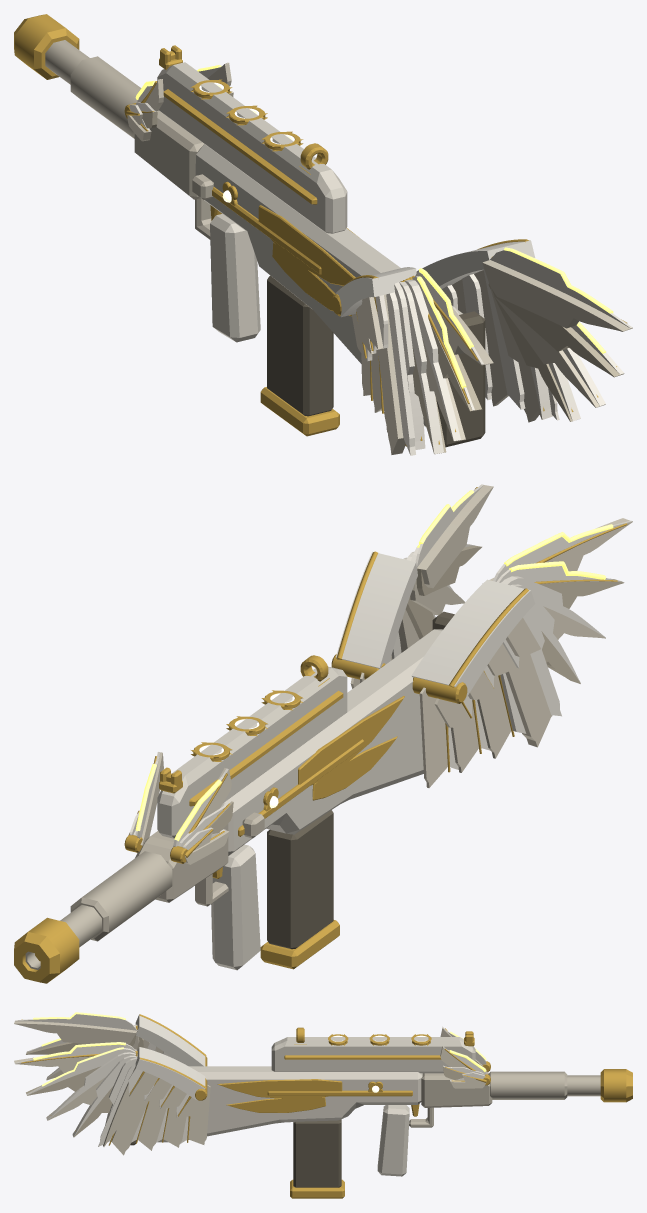
The model's file is w_burst@burst_seraph.glb.
3 views of the same model, one above another, from view 1: azimuth 30°, elevation 25°; view 2: azimuth 150°, elevation 25°; view 3: azimuth 270°, elevation 25° (orthographic). The views are drawn at different scales.
Visible parts, largest first — view 1: stock_wzN, stock_wzN.001, handle_wzA, body_wzA, mag_wzB, grip_wzA, stock_wzN.004, body_wzN, barrel_wzB, handle_wzN, stock_wzN.005, fore_wzB (+6 smaller); view 2: stock_wzN.001, body_wzA, stock_wzN.005, handle_wzA, mag_wzB, stock_wzN, barrel_wzB, body_wzN, grip_wzA, stock_wzN.002, handle_wzN, stock_wzN.004 (+9 smaller); view 3: stock_wzN.001, body_wzA, handle_wzA, stock_wzN, body_wzN, mag_wzB, stock_wzN.005, barrel_wzB, grip_wzA, fore_wzB, handle_wzN, stock_wzN.004 (+8 smaller).
Part boxes in pixels (x1,y1,x2,y2): stock_wzN: (365, 250, 632, 455); stock_wzN.001: (352, 260, 632, 454); handle_wzA: (157, 62, 347, 233); body_wzA: (195, 144, 462, 427); mag_wzB: (267, 275, 333, 416); grip_wzA: (210, 214, 260, 342); stock_wzN.004: (412, 284, 623, 453); body_wzN: (212, 181, 355, 316); barrel_wzB: (45, 40, 141, 138); handle_wzN: (159, 45, 328, 204); stock_wzN.005: (336, 240, 535, 317); fore_wzB: (134, 110, 203, 199); stock_wzN.001: (350, 485, 632, 787); body_wzA: (220, 629, 442, 855); stock_wzN.005: (336, 551, 535, 699); handle_wzA: (157, 666, 347, 838); mag_wzB: (267, 810, 333, 949); stock_wzN: (390, 484, 632, 769); barrel_wzB: (25, 851, 172, 969); body_wzN: (238, 696, 404, 836); grip_wzA: (211, 844, 260, 970); stock_wzN.002: (331, 487, 627, 772); handle_wzN: (159, 655, 343, 806); stock_wzN.004: (405, 545, 624, 683); stock_wzN.001: (14, 1021, 210, 1155); body_wzA: (157, 1066, 422, 1142); handle_wzA: (271, 1037, 475, 1073); stock_wzN: (15, 1014, 189, 1146); body_wzN: (217, 1079, 412, 1112); mag_wzB: (293, 1119, 341, 1187); stock_wzN.005: (135, 1014, 205, 1099); barrel_wzB: (488, 1071, 600, 1099); grip_wzA: (377, 1105, 409, 1176); fore_wzB: (421, 1071, 492, 1107); handle_wzN: (284, 1027, 474, 1059); stock_wzN.004: (26, 1033, 144, 1137).
Size of the model in its own units: 0.264 by 0.4396 by 1.49.
